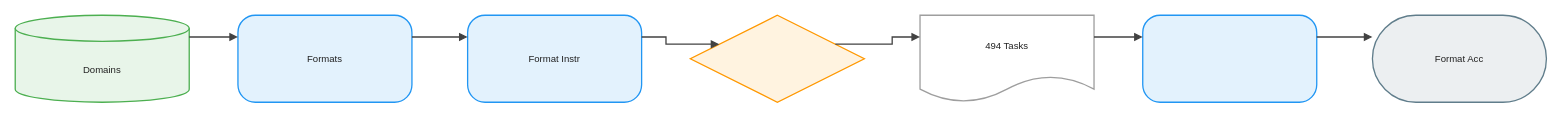
The diagram is 1563 pixels wide and 118 high, and some of its shapes have lost their labels. Here are the shapes that lost their labels. From the top down, the box of each, then its label:
(689, 14, 865, 102): Expert Review
(1142, 14, 1317, 102): GPT-4 Judge
